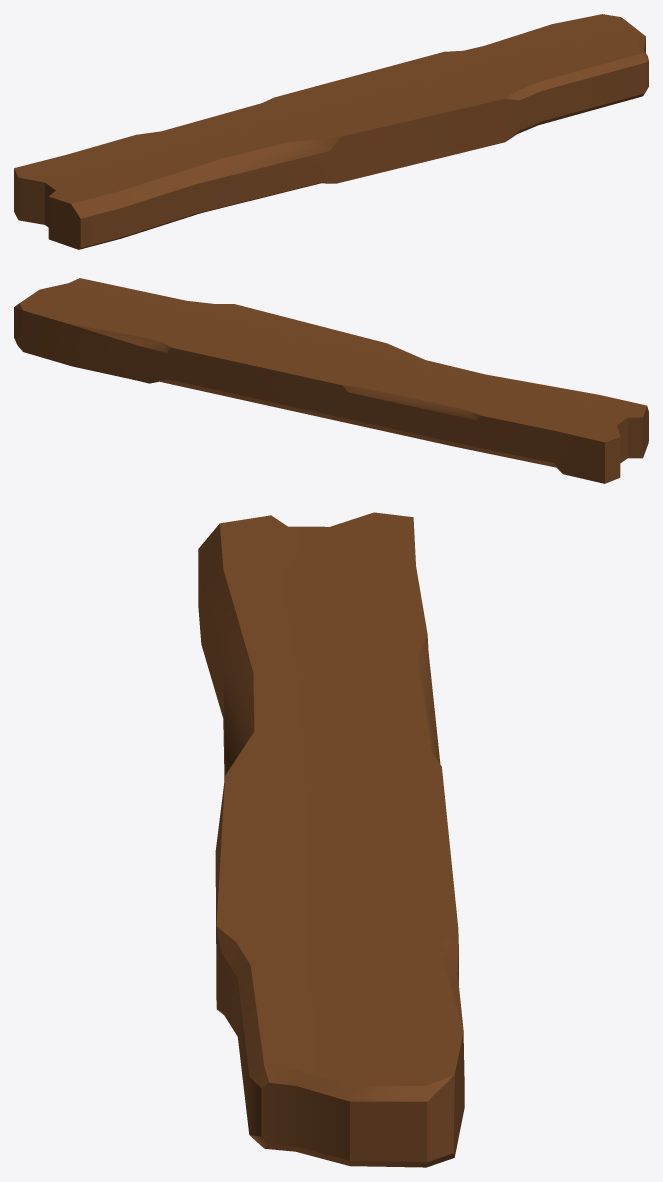
File: SM_wooden_plank.fbx
3 renders of one model, top to bottom at view 1: azimuth 30°, elevation 25°; view 2: azimuth 150°, elevation 25°; view 3: azimuth 270°, elevation 25°, orthographic. The views are drawn at different scales.
Parts seen in each view (by area): view 1: Cube.036; view 2: Cube.036; view 3: Cube.036.
Part boxes in pixels (x1,y1,x2,y2): Cube.036: (14, 14, 648, 249); Cube.036: (14, 278, 648, 483); Cube.036: (198, 512, 464, 1167).
Size of the model in its own units: 63.41 by 4.24 by 12.34.
